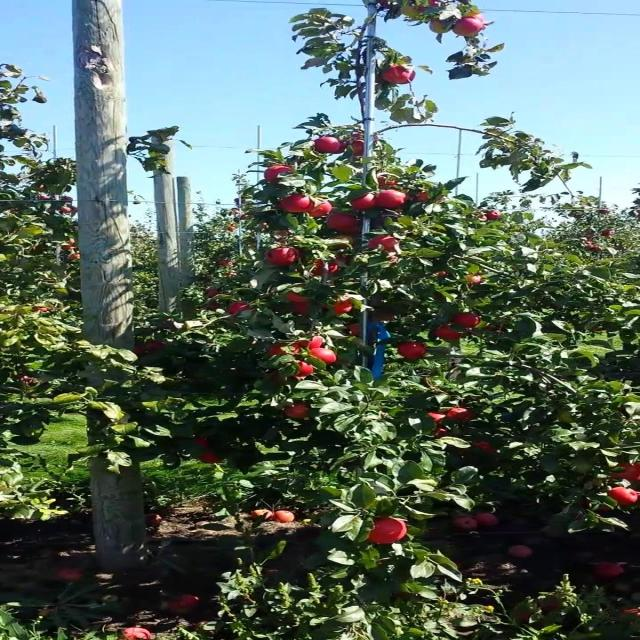apple: (369, 520, 407, 545), (284, 292, 313, 316), (276, 196, 311, 214), (383, 68, 420, 85), (269, 248, 302, 267), (134, 340, 167, 357), (305, 200, 334, 219), (454, 20, 484, 38), (611, 488, 639, 507), (611, 464, 639, 483), (376, 192, 407, 209), (369, 236, 400, 253), (312, 136, 340, 154), (397, 344, 427, 360), (454, 312, 484, 328), (291, 360, 316, 379), (326, 216, 357, 231), (284, 404, 313, 420), (312, 260, 341, 276), (312, 348, 340, 364), (355, 192, 377, 212), (447, 408, 476, 423), (269, 344, 302, 357), (433, 328, 462, 341), (298, 336, 327, 349), (333, 300, 356, 316), (269, 168, 295, 182), (404, 4, 427, 19), (227, 304, 254, 316), (269, 372, 295, 384), (468, 444, 498, 453), (376, 176, 398, 188), (198, 452, 220, 464), (355, 132, 377, 144), (349, 140, 366, 155), (335, 236, 356, 248), (433, 20, 450, 34), (468, 12, 489, 23), (376, 312, 398, 322), (348, 224, 363, 238), (333, 140, 347, 155), (355, 140, 368, 156), (348, 324, 363, 336), (433, 412, 448, 424), (433, 428, 448, 440), (468, 276, 484, 287), (205, 288, 220, 299), (355, 132, 370, 143), (333, 256, 350, 265), (419, 192, 432, 203), (205, 304, 220, 312), (433, 272, 448, 279), (198, 440, 210, 448), (383, 4, 395, 9)
